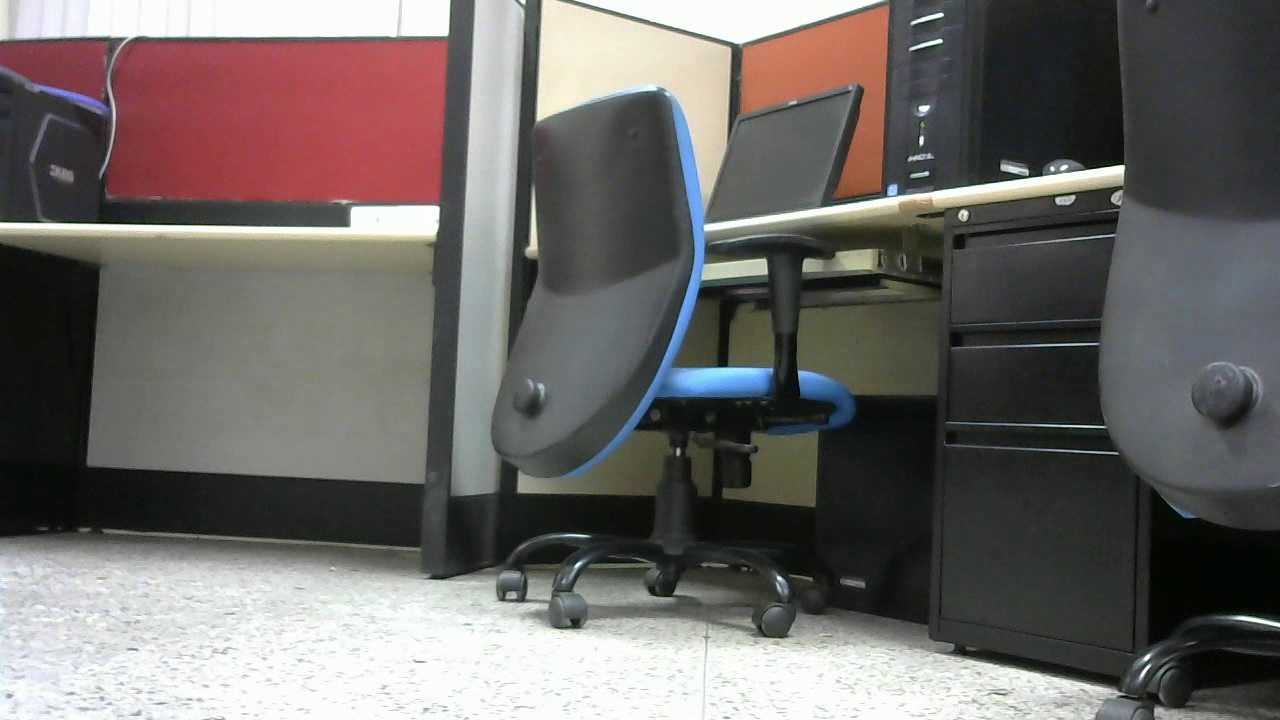chair: (475, 79, 857, 641)
